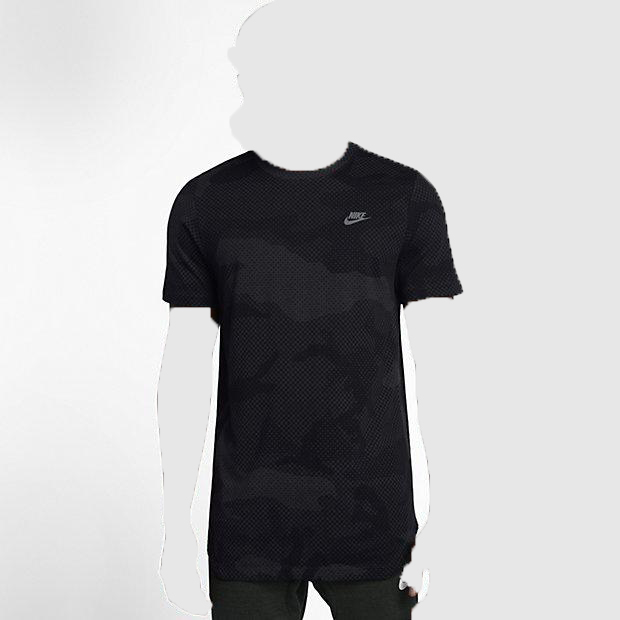teeshirt: (143, 140, 485, 585)
